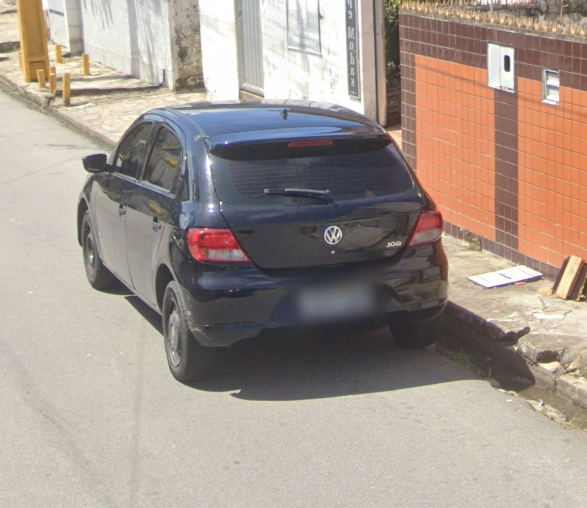car: (71, 93, 456, 389)
